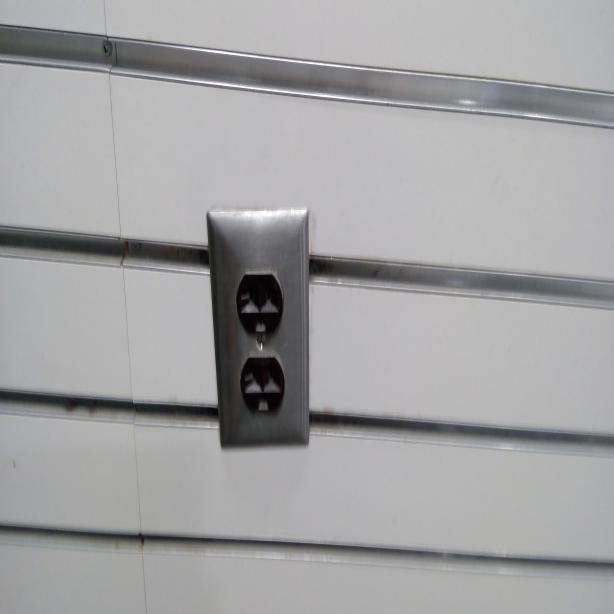typeb: (236, 270, 282, 340), (240, 352, 286, 418)
